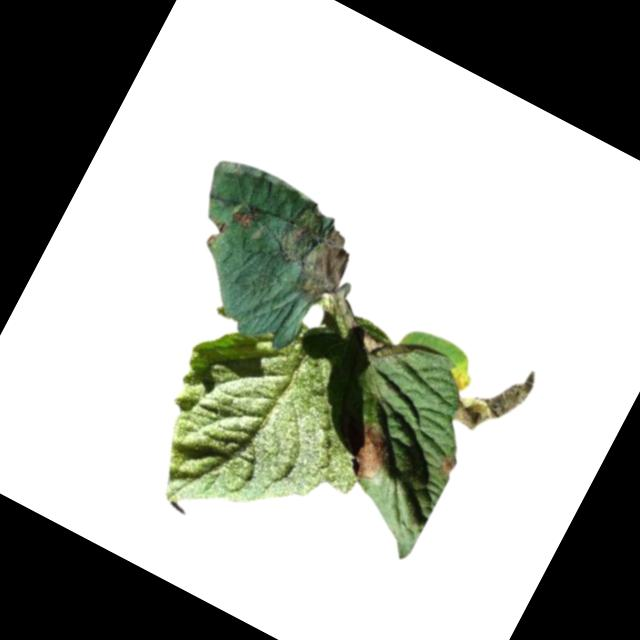Late_blight: (261, 198, 366, 309), (446, 344, 540, 449), (345, 423, 397, 485), (433, 448, 463, 483), (225, 205, 255, 234)
healthy: (123, 281, 410, 574)
